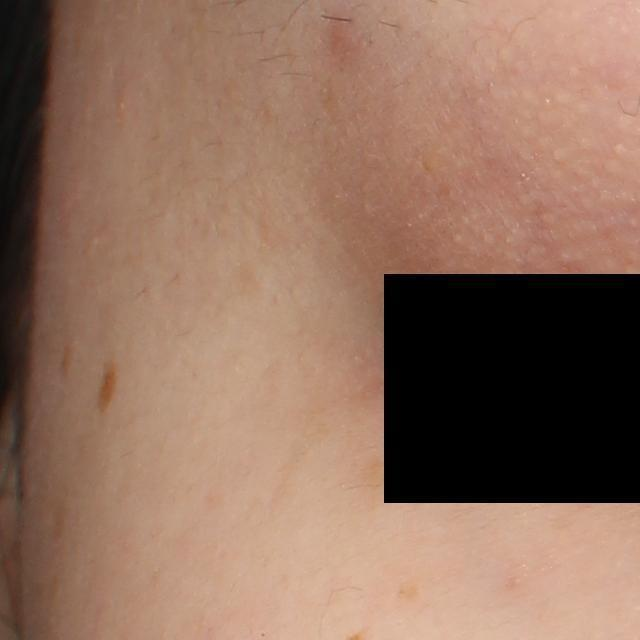melasma: (356, 456, 410, 500), (95, 359, 119, 420)
